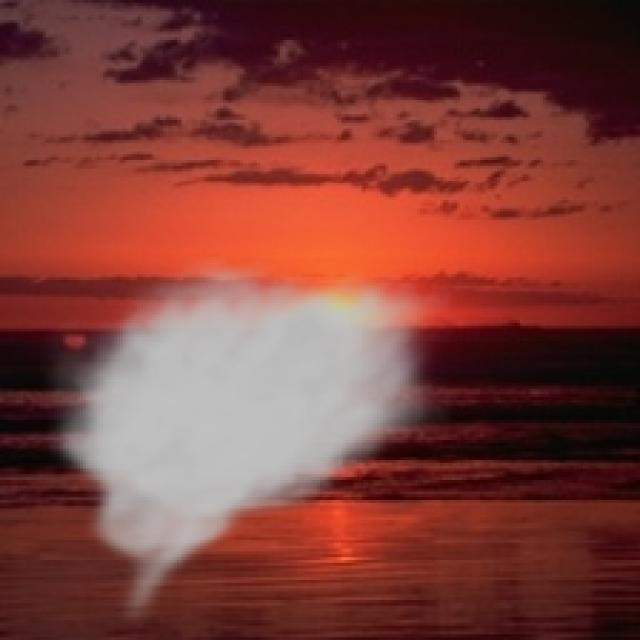smoke: (40, 257, 454, 632)
